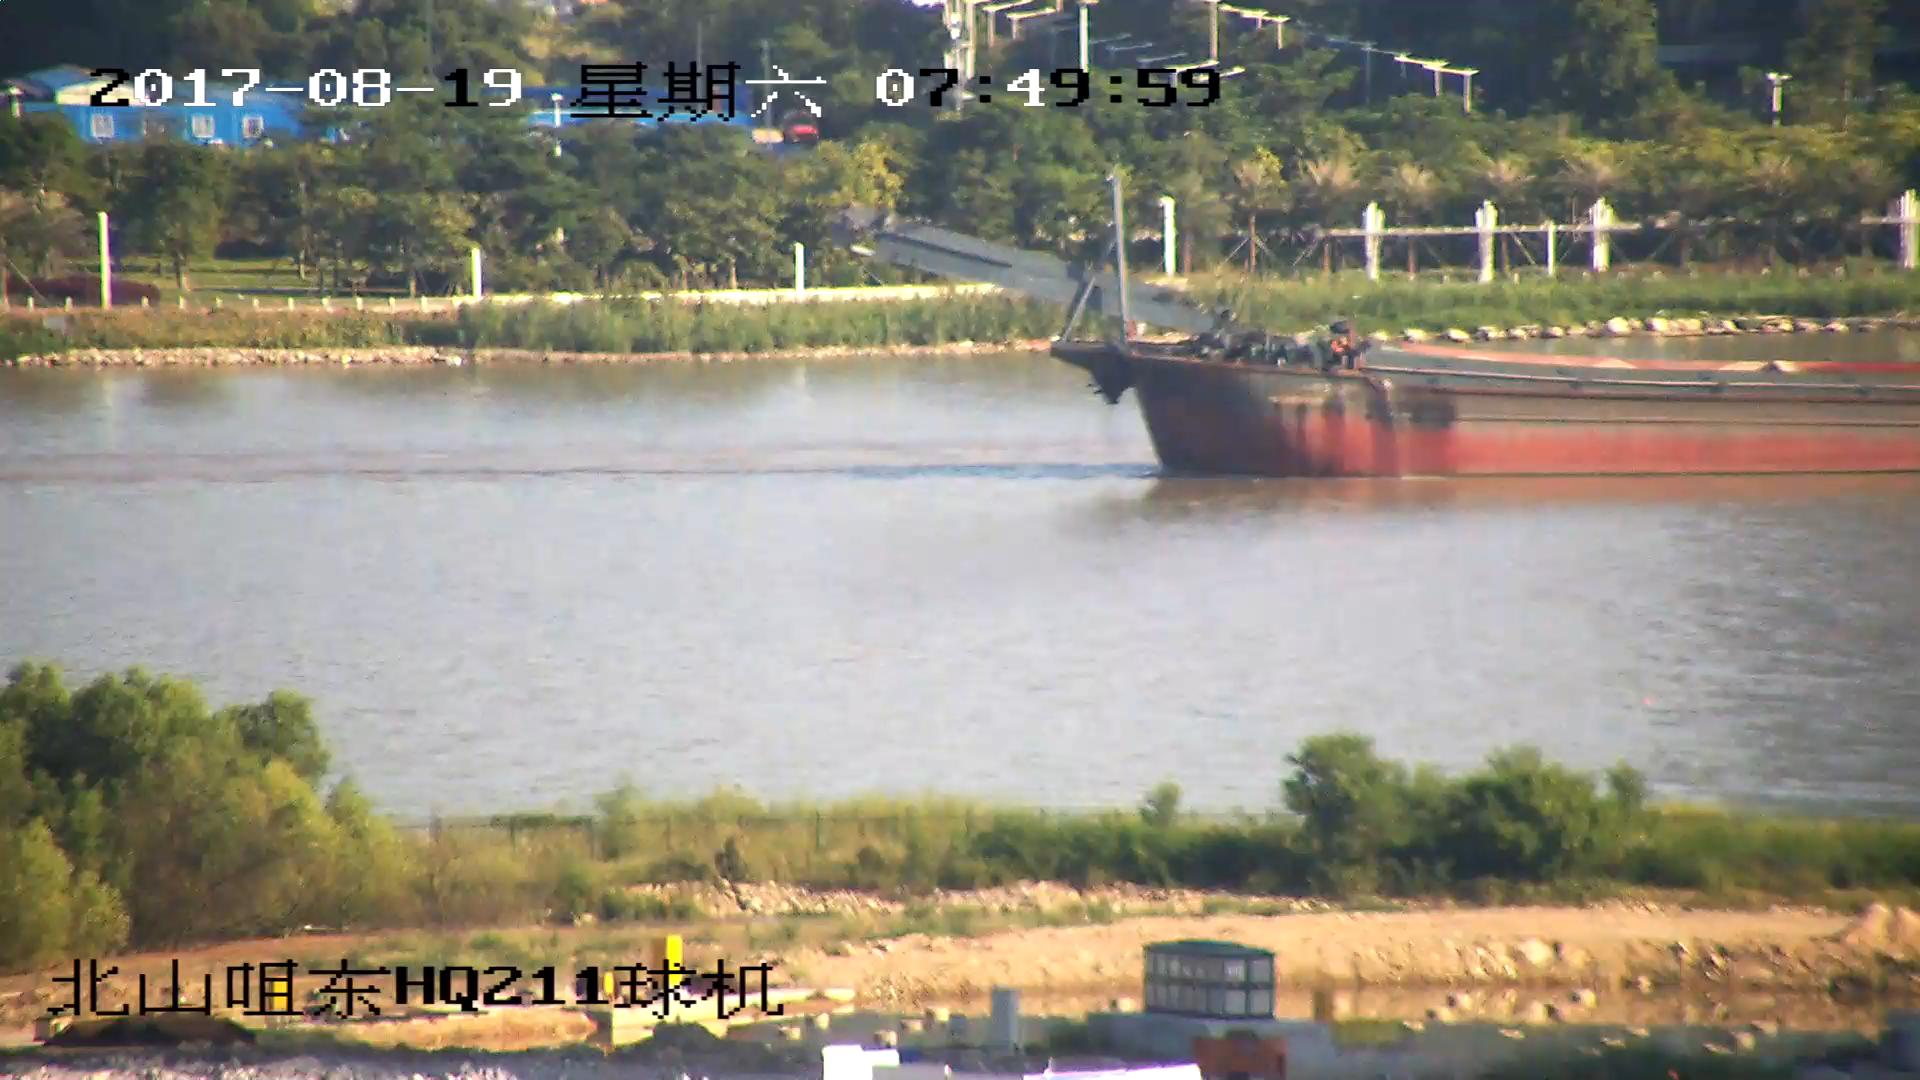bulk cargo carrier: (851, 183, 1920, 479)
